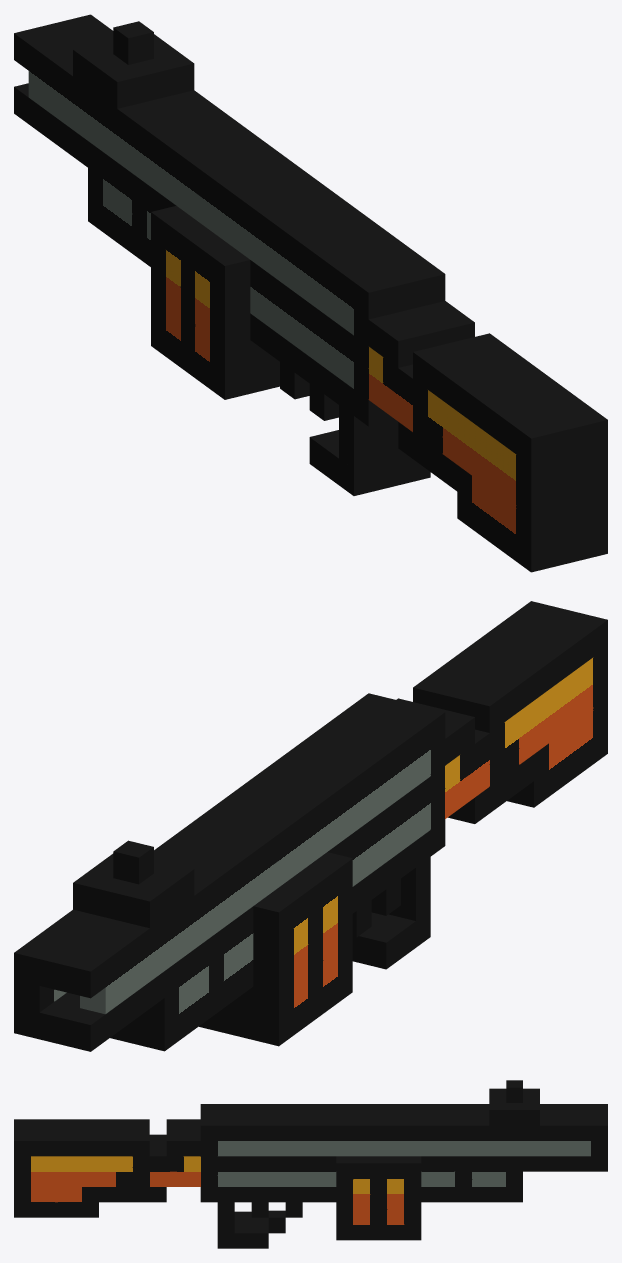
The model's file is Escopeta.obj.
3 views of the same model, one above another, from view 1: azimuth 30°, elevation 25°; view 2: azimuth 150°, elevation 25°; view 3: azimuth 270°, elevation 25° (orthographic). The views are drawn at different scales.
Parts seen in each view (by area): view 1: Model; view 2: Model; view 3: Model.
Boxes of the visible parts, x1,y1,x2,y2 form: Model: [14, 14, 607, 572]; Model: [14, 601, 607, 1051]; Model: [14, 1080, 607, 1248].
Size of the model in its own units: 5 by 10 by 35.
Materials: 1 (1 with a texture image).
